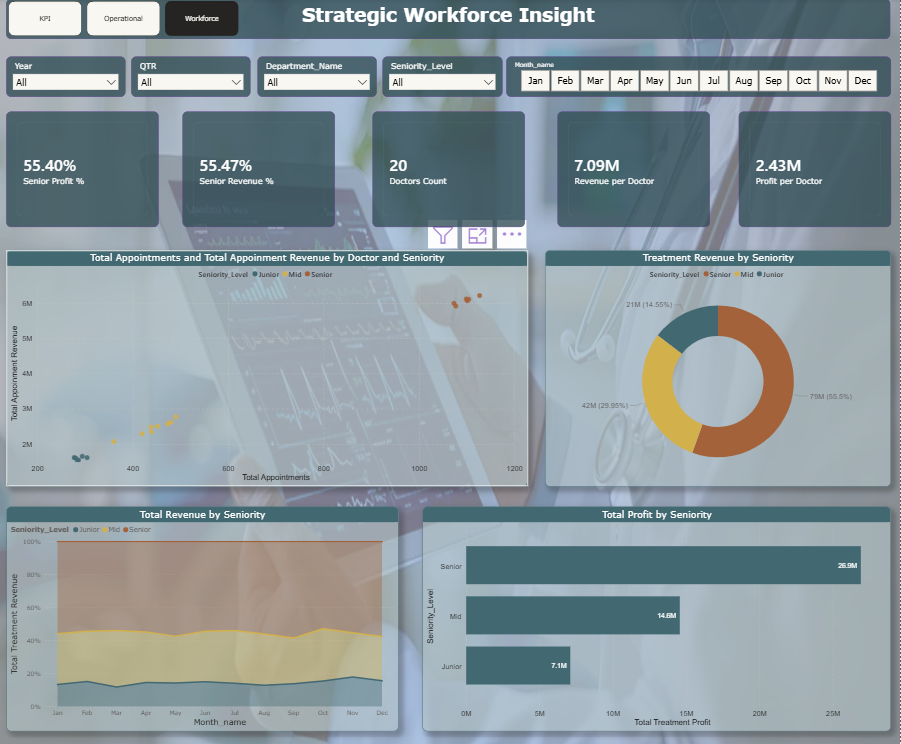

This screenshot's page, from the dashboard's own definition file:
{"tool":"powerbi","page":{"name":"Workforce","canvas":[1800,1500],"ordinal":2},"visuals":[{"type":"textbox","box":[13.3,10,1768.3,80],"z":0},{"type":"hundredPercentStackedAreaChart","title":"Total Revenue by Seniority","fields":{"Series":["Doctors.Seniority_Level"],"Y":["Measures_.Total Treatment Revenue"],"Category":["Date_Master.Month_name"]},"box":[13.4,1025.9,784.5,449.2],"z":1000},{"type":"clusteredBarChart","title":"Total Profit by Seniority","fields":{"Category":["Dim_Doctors_v4.Seniority_Level"],"Y":["Measures_.Total Profit"]},"box":[844.9,1025.9,937,449.2],"z":2000},{"type":"donutChart","title":"Treatment Revenue by Seniority","fields":{"Category":["Dim_Doctors_v4.Seniority_Level"],"Y":["Measures_.Total Hospital Revenue"]},"box":[1089.6,512.9,692.3,472.7],"z":3000},{"type":"scatterChart","title":"Total Appointments and Total Appoinment Revenue by Doctor and Seniority","fields":{"X":["Measures_.Total Appointments"],"Y":["Measures_.Total Revenue"],"Category":["Dim_Doctors_v4.Doctor_Name"],"Series":["Dim_Doctors_v4.Seniority_Level"]},"box":[13.4,512.9,1042.7,472.7],"z":4000},{"type":"slicer","fields":{"Values":["Date_Master.QTR"]},"box":[261.5,125.7,238,80.5],"z":5000},{"type":"slicer","fields":{"Values":["Dim_Departments_v4.Department_Name"]},"box":[514.6,125.7,238,80.5],"z":6000},{"type":"slicer","fields":{"Values":["Dim_Doctors_v4.Seniority_Level"]},"box":[764.4,125.7,239.7,80.5],"z":7000},{"type":"slicer","fields":{"Values":["Date_Master.Year"]},"box":[13.4,125.7,238,80.5],"z":8000},{"type":"slicer","fields":{"Values":["Date_Master.Month_name"]},"box":[1012.5,125.7,769.4,80.5],"z":9000},{"type":"cardVisual","fields":{"Data":["Measures_.Senior Revenue %"]},"box":[365.4,234.7,305.1,231.3],"z":10000},{"type":"cardVisual","fields":{"Data":["Measures_.Doctors Count"]},"box":[745.9,234.7,305.1,231.3],"z":11000},{"type":"cardVisual","fields":{"Data":["Measures_.Revenue per Doctor"]},"box":[1114.7,234.7,305.1,231.3],"z":12000},{"type":"cardVisual","fields":{"Data":["Measures_.Profit per Doctor"]},"box":[1476.8,234.7,305.1,231.3],"z":13000},{"type":"cardVisual","fields":{"Data":["Measures_.Senior Profit %"]},"box":[13.4,234.7,305.1,231.3],"z":14000},{"type":"pageNavigator","box":[13.3,10,470,78.3],"z":15000}]}

Visuals, with their boxes in screenshot pixels (x1, y1, x2, y2), scaled from the page's 1800x1500 canvas onto the 901x744 screenshot:
textbox: left=7, top=5, right=892, bottom=45
"Total Revenue by Seniority" hundredPercentStackedAreaChart: left=7, top=509, right=399, bottom=732
"Total Profit by Seniority" clusteredBarChart: left=423, top=509, right=892, bottom=732
"Treatment Revenue by Seniority" donutChart: left=545, top=254, right=892, bottom=489
"Total Appointments and Total Appoinment Revenue by Doctor and Seniority" scatterChart: left=7, top=254, right=529, bottom=489
slicer - Date_Master.QTR: left=131, top=62, right=250, bottom=102
slicer - Dim_Departments_v4.Department_Name: left=258, top=62, right=377, bottom=102
slicer - Dim_Doctors_v4.Seniority_Level: left=383, top=62, right=503, bottom=102
slicer - Date_Master.Year: left=7, top=62, right=126, bottom=102
slicer - Date_Master.Month_name: left=507, top=62, right=892, bottom=102
cardVisual - Measures_.Senior Revenue %: left=183, top=116, right=336, bottom=231
cardVisual - Measures_.Doctors Count: left=373, top=116, right=526, bottom=231
cardVisual - Measures_.Revenue per Doctor: left=558, top=116, right=711, bottom=231
cardVisual - Measures_.Profit per Doctor: left=739, top=116, right=892, bottom=231
cardVisual - Measures_.Senior Profit %: left=7, top=116, right=159, bottom=231
pageNavigator: left=7, top=5, right=242, bottom=44
